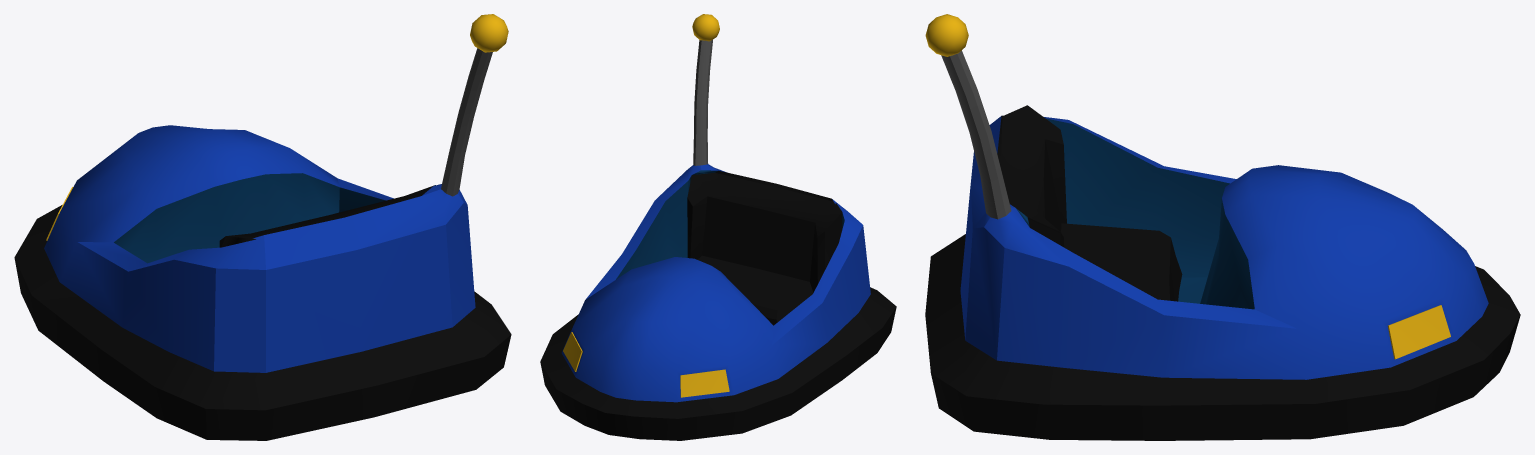
The model's file is Auto_tamponneuse_Bleu_v1.FBX.
3 views of the same model, side by side, from view 1: azimuth 30°, elevation 25°; view 2: azimuth 150°, elevation 25°; view 3: azimuth 270°, elevation 25° (orthographic). The views are drawn at different scales.
Visible parts, largest first — view 1: BumperCar003, GeoSphere002; view 2: BumperCar003, GeoSphere002; view 3: BumperCar003, GeoSphere002.
Boxes of the visible parts, <box> form: BumperCar003: <box>14,48,511,440</box>; GeoSphere002: <box>470,14,508,52</box>; BumperCar003: <box>540,39,896,440</box>; GeoSphere002: <box>692,14,719,41</box>; BumperCar003: <box>925,50,1520,440</box>; GeoSphere002: <box>925,14,968,56</box>.
Size of the model in its own units: 59.49 by 62.28 by 82.43.
